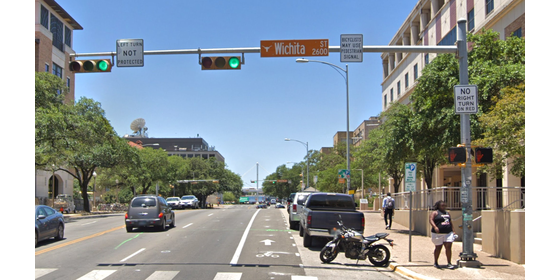bicyclists must use ped signal sign: (337, 33, 364, 63)
left turn not protected sign: (114, 34, 146, 70)
no right turn on red sign: (454, 82, 479, 115)
